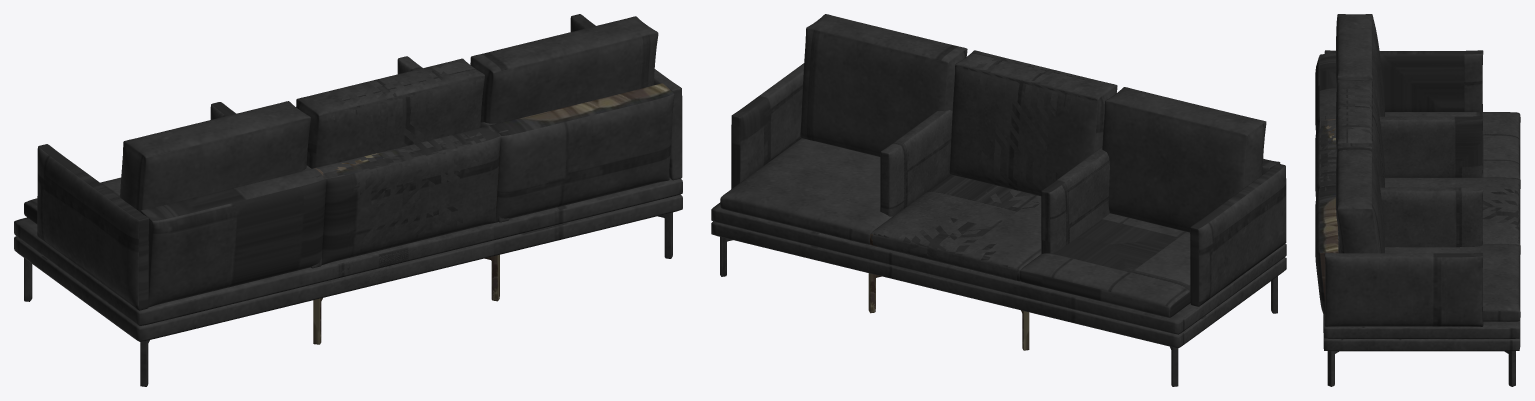
Rendered from sofa-set.glb.
3 renders of one model, left to right at view 1: azimuth 30°, elevation 25°; view 2: azimuth 150°, elevation 25°; view 3: azimuth 270°, elevation 25°, orthographic. The views are drawn at different scales.
Visible parts, largest first — view 1: Sofa01, Sofa02; view 2: Sofa01, Sofa02; view 3: Sofa01, Sofa02.
Part boxes in pixels (<box>): Sofa01: <box>14,14,682,386</box>; Sofa02: <box>210,56,509,344</box>; Sofa01: <box>711,14,1286,386</box>; Sofa02: <box>868,50,1109,350</box>; Sofa01: <box>1315,14,1520,386</box>; Sofa02: <box>1315,80,1520,248</box>.
Bounding box in the file's own units: 2.15 × 0.8405 × 0.8853.
2 materials, 2 textured.
